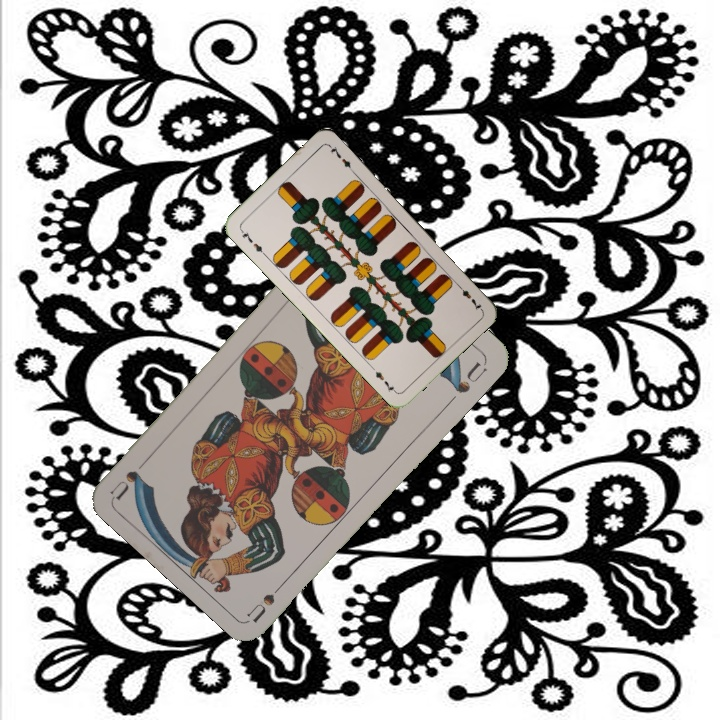E7: (236, 225, 268, 258), (453, 279, 484, 313)
SU: (244, 573, 292, 624)
